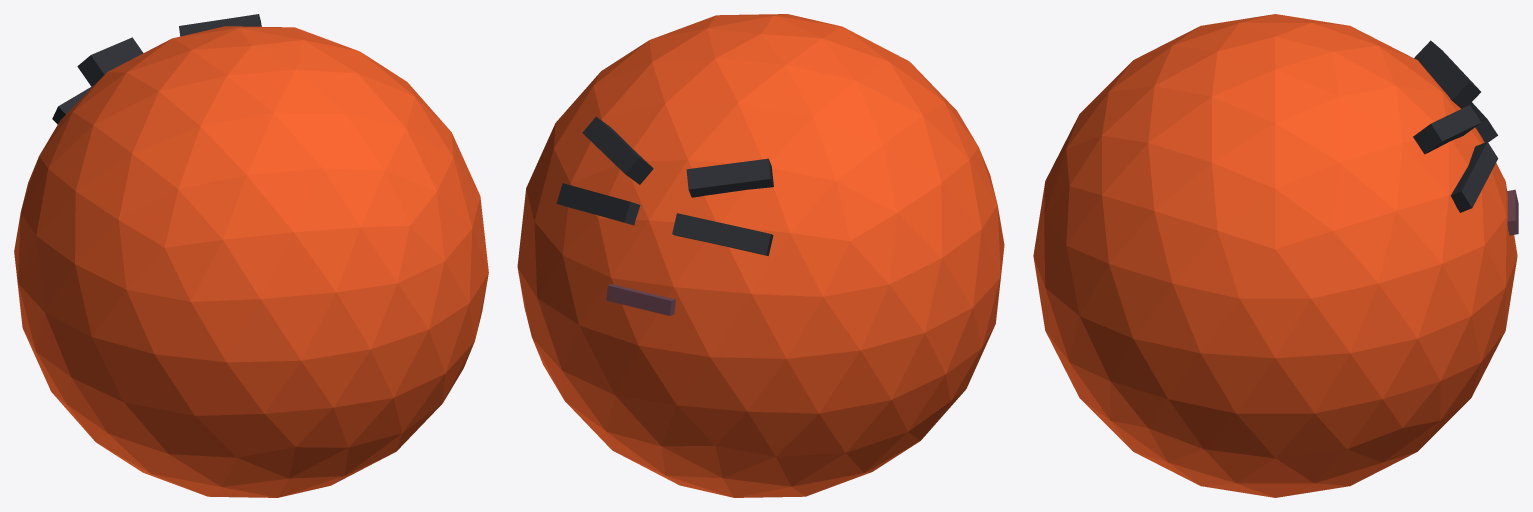
The model's file is CH_Topik_T3_Blink.fbx.
3 renders of one model, left to right at view 1: azimuth 30°, elevation 25°; view 2: azimuth 150°, elevation 25°; view 3: azimuth 270°, elevation 25°, orthographic. The views are drawn at different scales.
Parts seen in each view (by area): view 1: CH_Topik_T3_Blink; view 2: CH_Topik_T3_Blink; view 3: CH_Topik_T3_Blink.
Part boxes in pixels (x1,y1,x2,y2): CH_Topik_T3_Blink: (14,14,488,497); CH_Topik_T3_Blink: (517,14,1004,497); CH_Topik_T3_Blink: (1033,14,1518,497).
Bounding box in the file's own units: 1 × 1 × 1.
